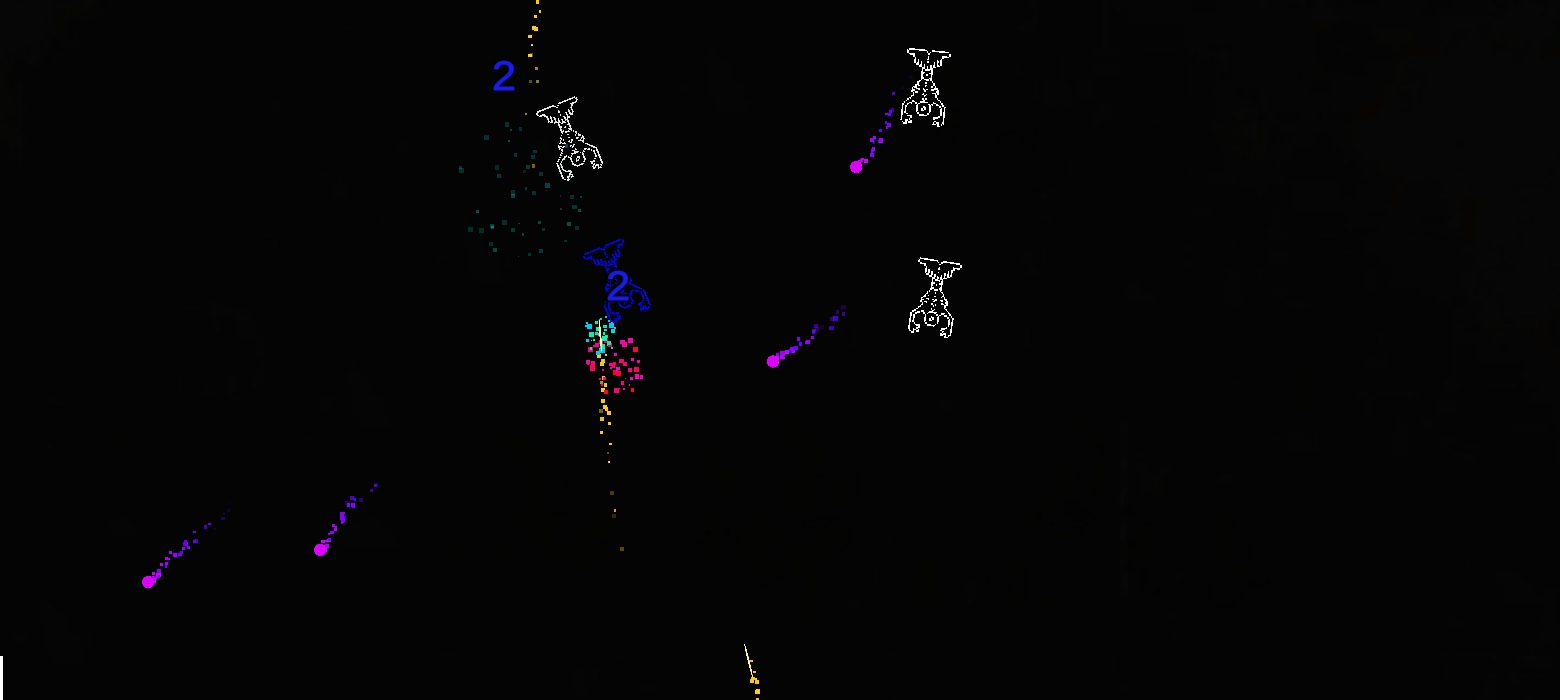enemy: (582, 238, 651, 324), (535, 96, 604, 181), (908, 257, 963, 338), (900, 48, 951, 128)
